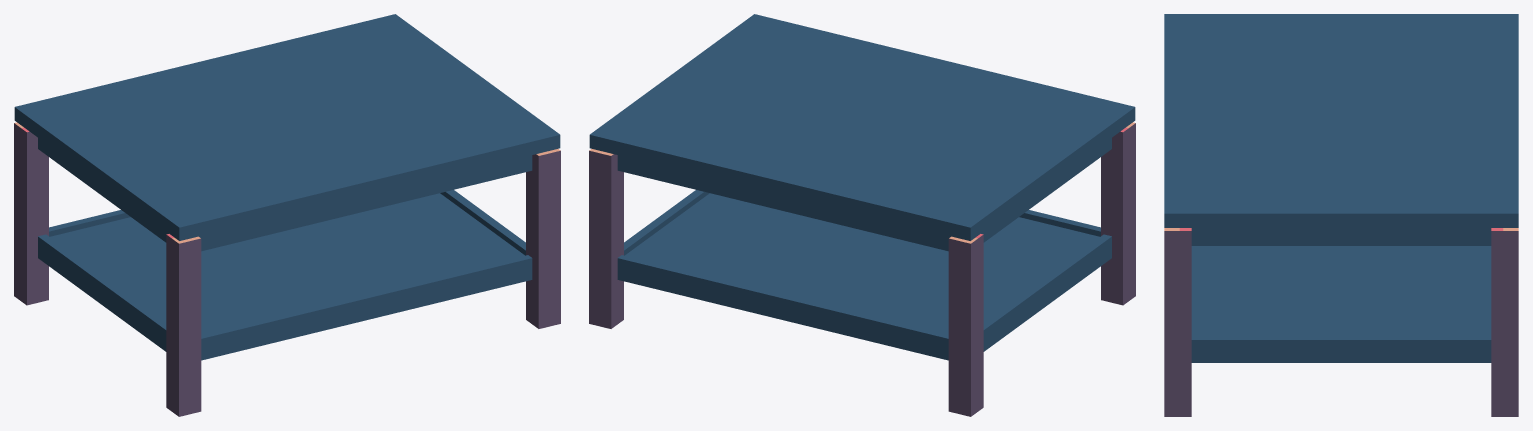
File: sofaTable.fbx
3 renders of one model, left to right at view 1: azimuth 30°, elevation 25°; view 2: azimuth 150°, elevation 25°; view 3: azimuth 270°, elevation 25°, orthographic. The views are drawn at different scales.
Visible parts, largest first — view 1: CouchTable; view 2: CouchTable; view 3: CouchTable.
Part boxes in pixels (x1,y1,x2,y2): CouchTable: [14, 14, 560, 416]; CouchTable: [589, 14, 1135, 416]; CouchTable: [1164, 14, 1518, 416].
Size of the model in its own units: 100 by 47.39 by 74.93.
Materials: 1 (1 with a texture image).
